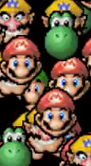luigi: (20, 68, 45, 111)
mario: (32, 92, 81, 133), (0, 37, 43, 82), (50, 58, 88, 103), (82, 37, 91, 80)
wario: (25, 108, 62, 149), (42, 0, 85, 34), (1, 1, 29, 41), (67, 136, 91, 161), (0, 76, 19, 95)
yoshi: (44, 13, 80, 57), (2, 126, 30, 157)
